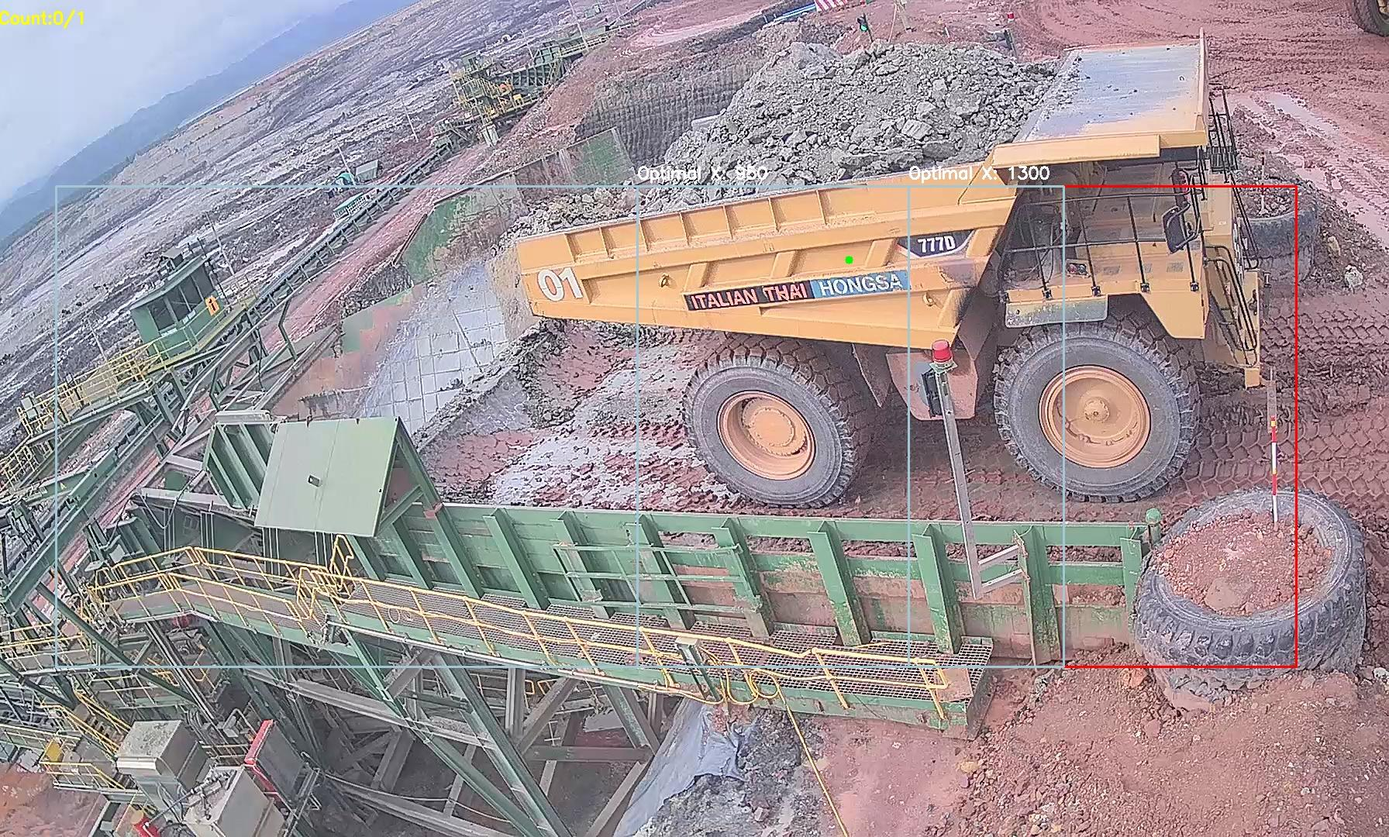company: (682, 265, 919, 313)
full_load: (689, 37, 1015, 195)
mining_truck: (509, 11, 1273, 497)
tail_number: (534, 262, 589, 307)
truck_size: (905, 228, 971, 262)
